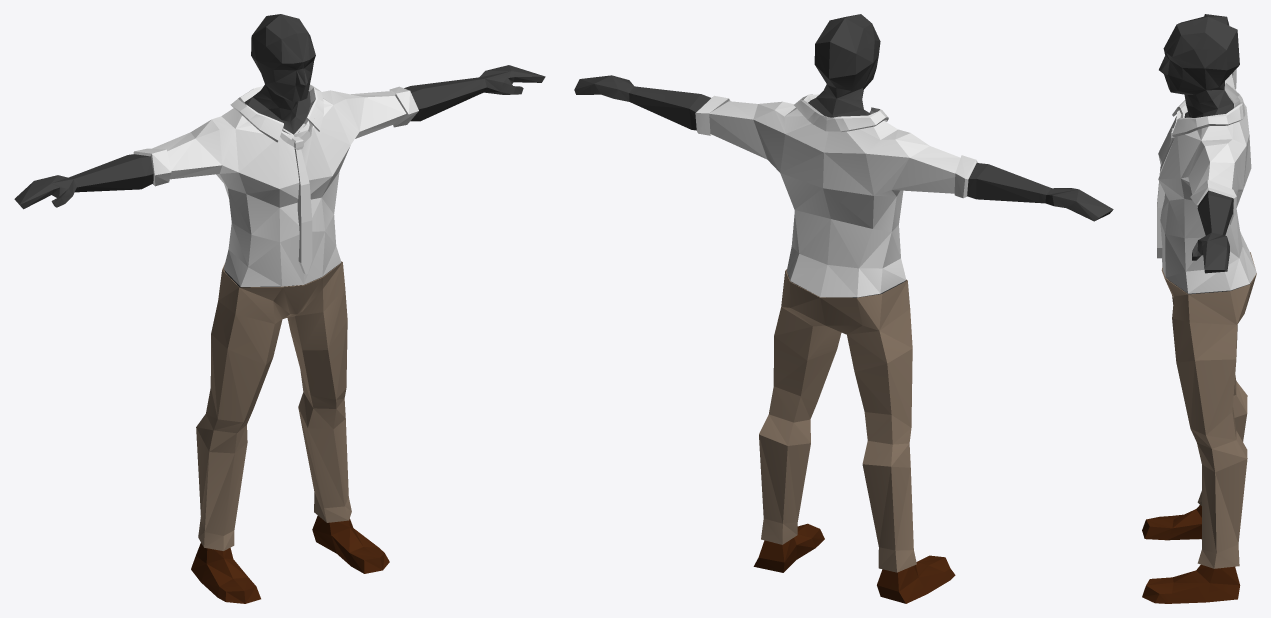
File: LoftTie.fbx
3 views of the same model, side by side, from view 1: azimuth 30°, elevation 25°; view 2: azimuth 150°, elevation 25°; view 3: azimuth 270°, elevation 25° (orthographic).
Parts seen in each view (by area): view 1: Pants, Shirt, Dude, Shoes, Tie; view 2: Shirt, Pants, Dude, Shoes; view 3: Pants, Shirt, Dude, Shoes, Tie.
Boxes of the visible parts, left/top/right/bottom form: Pants: left=196, top=261, right=351, bottom=550; Shirt: left=133, top=84, right=418, bottom=286; Dude: left=14, top=14, right=545, bottom=287; Shoes: left=191, top=515, right=389, bottom=603; Tie: left=280, top=122, right=312, bottom=274; Shirt: left=695, top=94, right=977, bottom=297; Pants: left=759, top=269, right=916, bottom=572; Dude: left=574, top=14, right=1113, bottom=297; Shoes: left=753, top=523, right=955, bottom=603; Pants: left=1161, top=252, right=1256, bottom=568; Shirt: left=1158, top=69, right=1256, bottom=293; Dude: left=1159, top=14, right=1251, bottom=294; Shoes: left=1142, top=505, right=1240, bottom=603; Tie: left=1157, top=110, right=1181, bottom=258.
Size of the model in its own units: 175 by 175 by 33.24.
